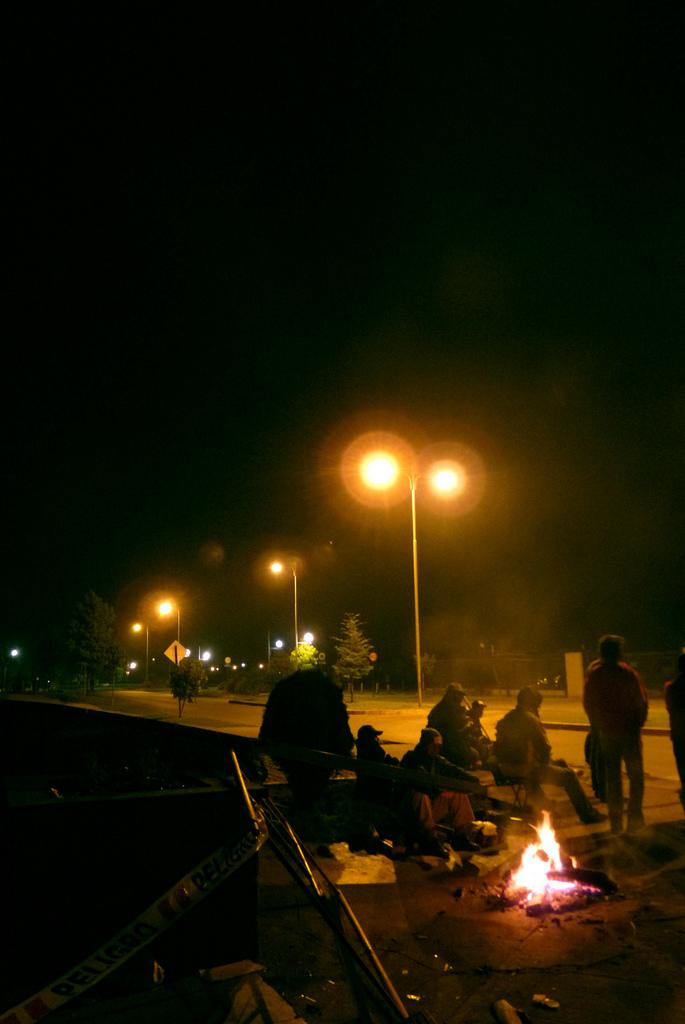fire: (508, 818, 600, 912)
